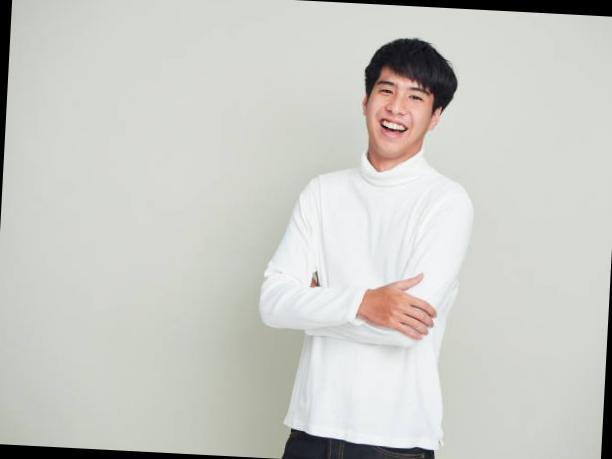Sober: (368, 71, 426, 151)
